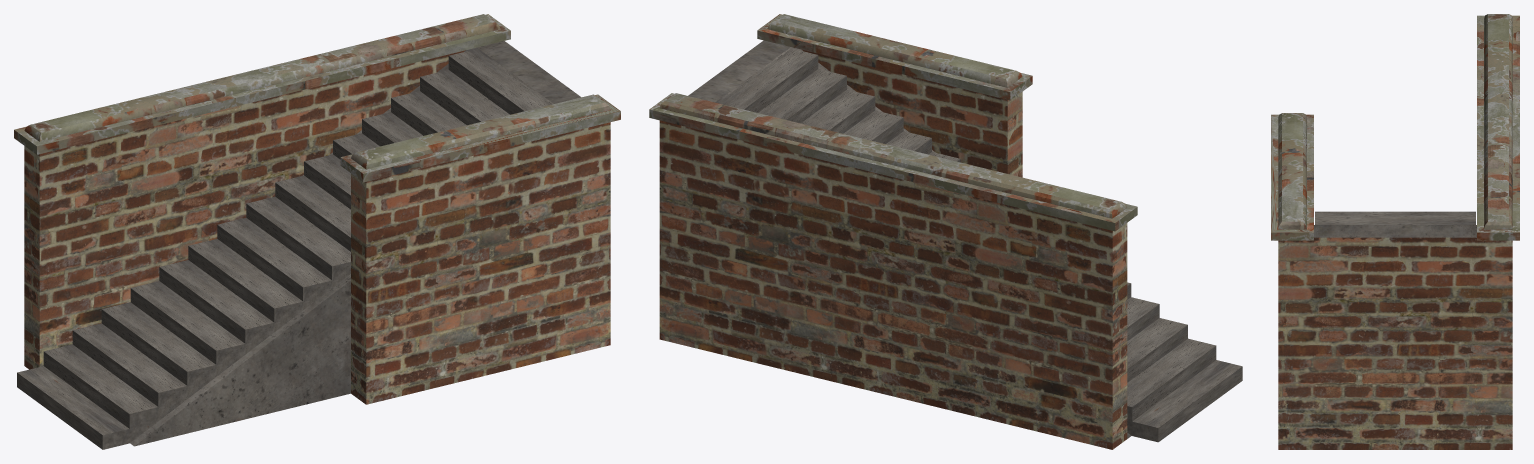
Rendered from Victorian Stairs.fbx.
The picture shows the model from 3 angles, left to right: view 1: azimuth 30°, elevation 25°; view 2: azimuth 150°, elevation 25°; view 3: azimuth 270°, elevation 25°; orthographic projection. The views are drawn at different scales.
Visible parts, largest first — view 1: Cube.003; view 2: Cube.003; view 3: Cube.003.
Part boxes in pixels (x1,y1,x2,y2): Cube.003: (14, 14, 620, 449); Cube.003: (649, 14, 1242, 449); Cube.003: (1271, 14, 1519, 449).
Size of the model in its own units: 457 by 214 by 212.
